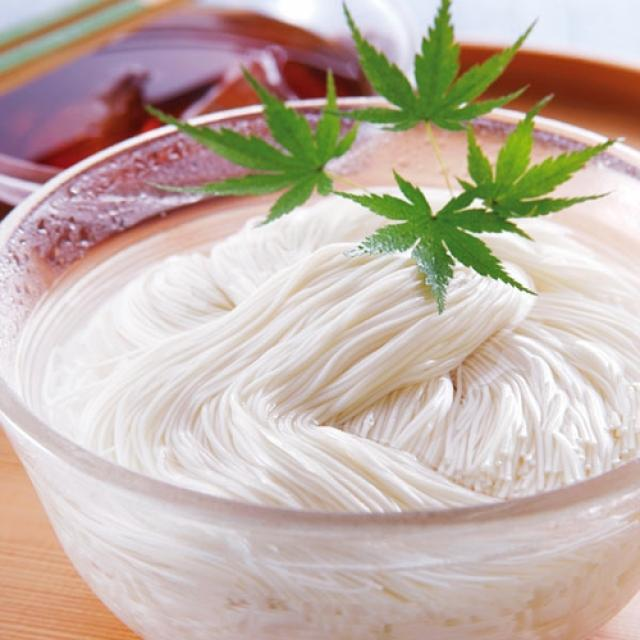面条主食: (9, 58, 627, 604)
